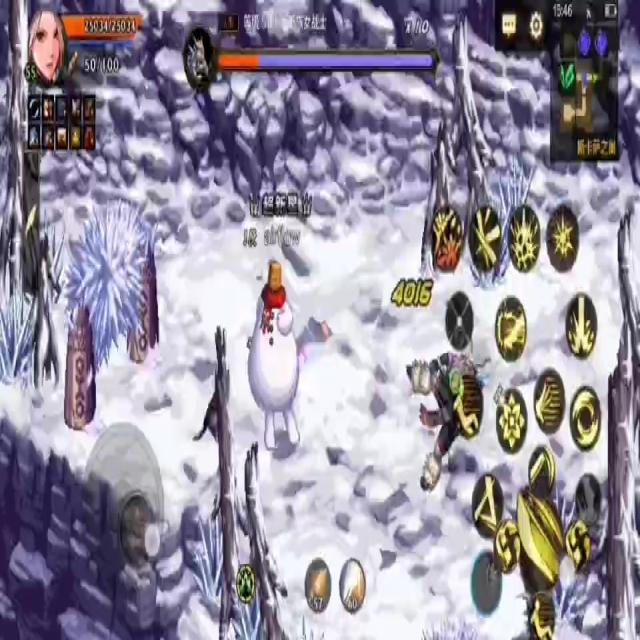player: (250, 255, 302, 456)
